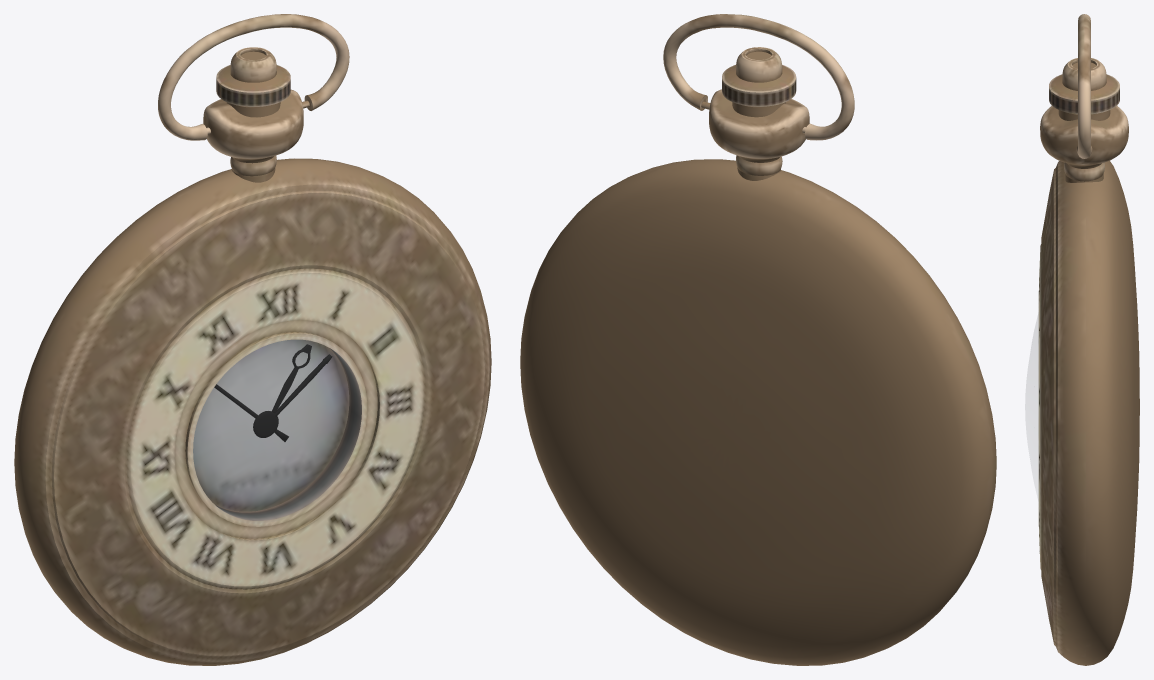
File: watch.glb
3 views of the same model, side by side, from view 1: azimuth 30°, elevation 25°; view 2: azimuth 150°, elevation 25°; view 3: azimuth 270°, elevation 25° (orthographic). The views are drawn at different scales.
Visible parts, largest first — view 1: vintage_pocket_watch; view 2: vintage_pocket_watch; view 3: vintage_pocket_watch.
Part boxes in pixels (box(x1,y1,x2,y2)): vintage_pocket_watch: box(14, 14, 491, 665); vintage_pocket_watch: box(520, 14, 996, 665); vintage_pocket_watch: box(1025, 14, 1139, 665).
Bounding box in the file's own units: 0.0613 × 0.0799 × 0.0136.
3 materials, 1 textured.
